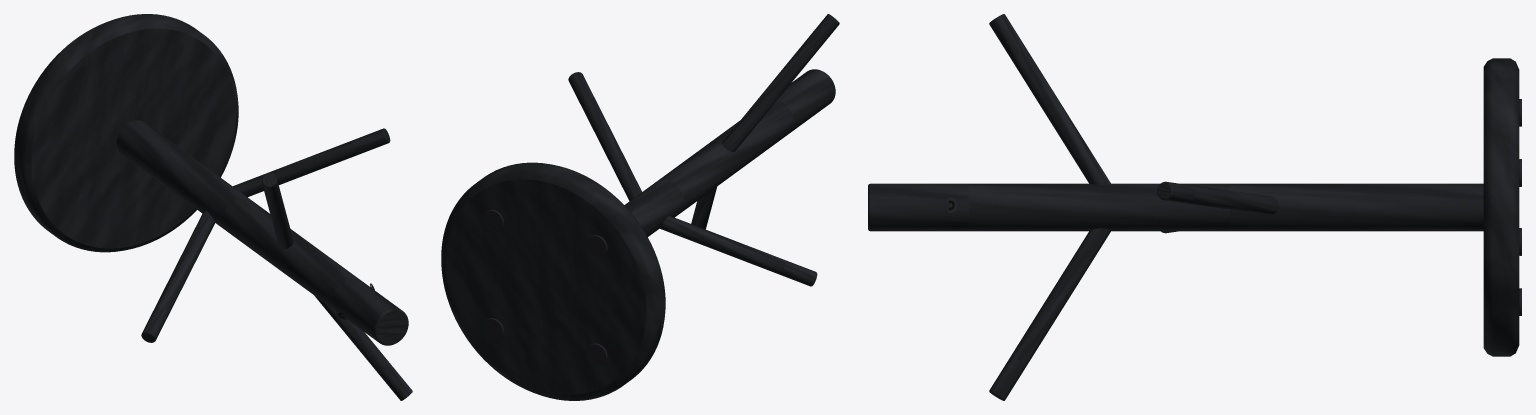
The model's file is mylifeunit_mug_tree_4branch.glb.
3 views of the same model, side by side, from view 1: azimuth 30°, elevation 25°; view 2: azimuth 150°, elevation 25°; view 3: azimuth 270°, elevation 25° (orthographic). The views are drawn at different scales.
Parts seen in each view (by area): view 1: Base, Pole, Branch_01, Branch_02, Branch_04, Branch_03; view 2: Base, Pole, Branch_03, Branch_02, Branch_01, Branch_04, RubberPad_03, RubberPad_02, RubberPad_01, RubberPad_04; view 3: Pole, Base, Branch_04, Branch_03, Branch_01.
Boxes of the visible parts, x1,y1,x2,y2 form: Base: (14, 14, 238, 252); Pole: (116, 120, 408, 345); Branch_01: (233, 128, 390, 197); Branch_02: (141, 210, 214, 342); Branch_04: (314, 295, 412, 400); Branch_03: (261, 173, 293, 249); Base: (441, 162, 665, 400); Pole: (624, 69, 835, 236); Branch_03: (722, 14, 839, 152); Branch_02: (660, 216, 817, 286); Branch_01: (568, 72, 641, 201); Branch_04: (691, 187, 716, 229); RubberPad_03: (586, 343, 607, 365); RubberPad_02: (586, 235, 607, 257); RubberPad_01: (483, 209, 503, 231); RubberPad_04: (483, 318, 503, 340); Pole: (868, 183, 1483, 231); Base: (1483, 58, 1519, 356); Branch_04: (989, 228, 1110, 400); Branch_03: (989, 14, 1110, 184); Branch_01: (1157, 181, 1279, 214).
Bounding box in the file's own units: 0.1823 × 0.1823 × 0.3505.
Materials: 5 (2 with a texture image).
